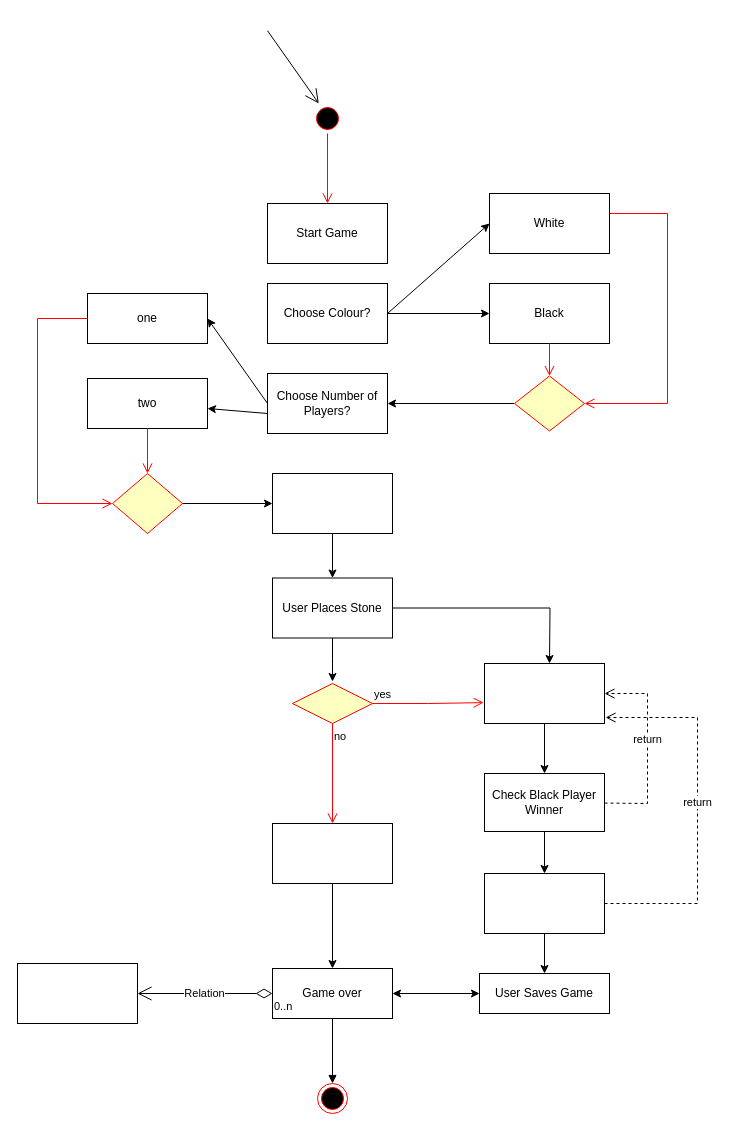
Some shapes in this 729 by 1131 pixel diagram are drawn without their labels. Here are the shapes that lost their labels. From the top down, the centre of each, then its label:
At (x=332, y=503): "System Allows Placing Stone".
At (x=544, y=693): "Check Winner".
At (x=332, y=853): "Return to User Places Stone".
At (x=544, y=903): "Check White Player Winner".
At (x=77, y=993): "Load Game".
